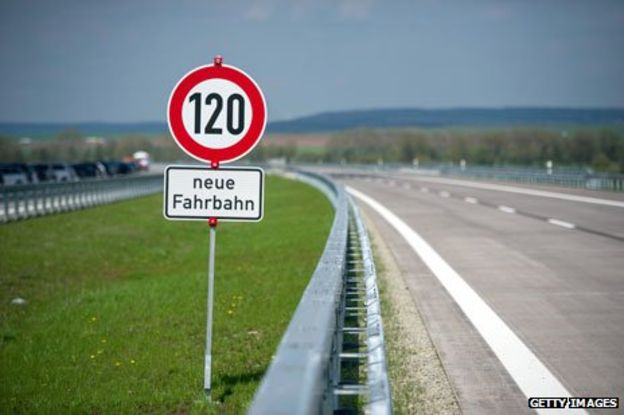Speed_limit_120km: (165, 62, 268, 166)
